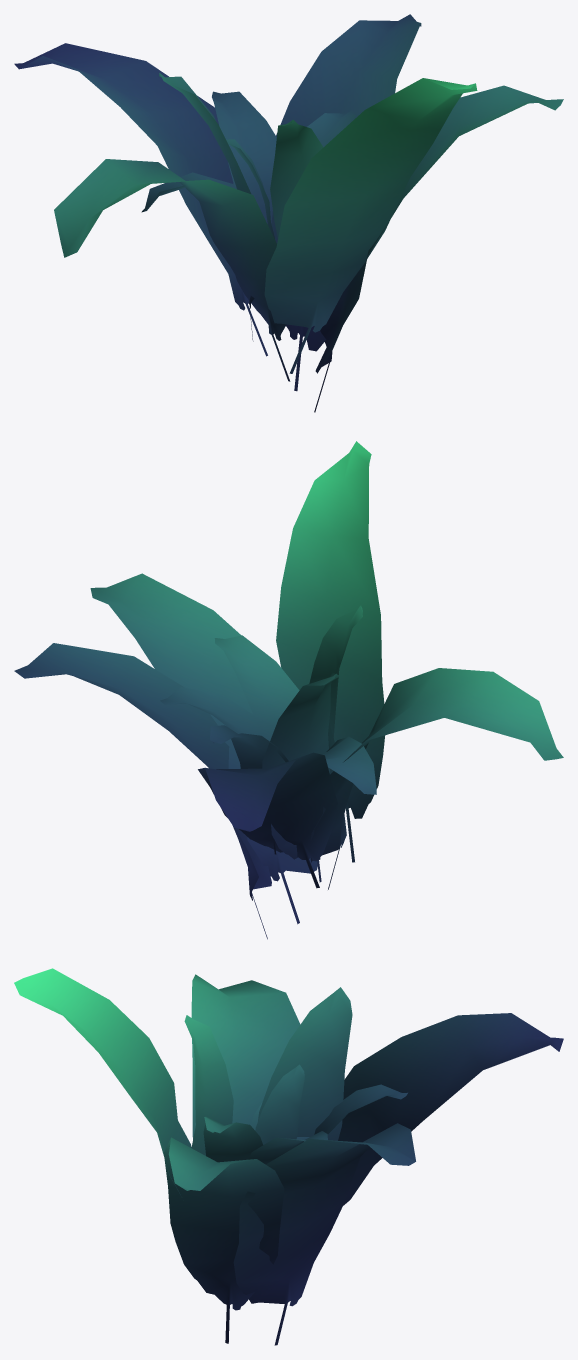
The model's file is SM_Plant.fbx.
The picture shows the model from 3 angles, top to bottom: view 1: azimuth 30°, elevation 25°; view 2: azimuth 150°, elevation 25°; view 3: azimuth 270°, elevation 25°; orthographic projection. The views are drawn at different scales.
Parts seen in each view (by area): view 1: Line014; view 2: Line014; view 3: Line014.
Boxes of the visible parts, x1,y1,x2,y2 form: Line014: [14, 14, 563, 412]; Line014: [14, 441, 563, 939]; Line014: [14, 968, 563, 1345].
Size of the model in its own units: 390 by 302 by 391.
